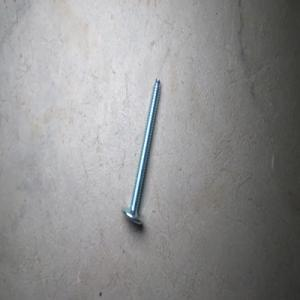Bolt: (120, 77, 160, 225)
